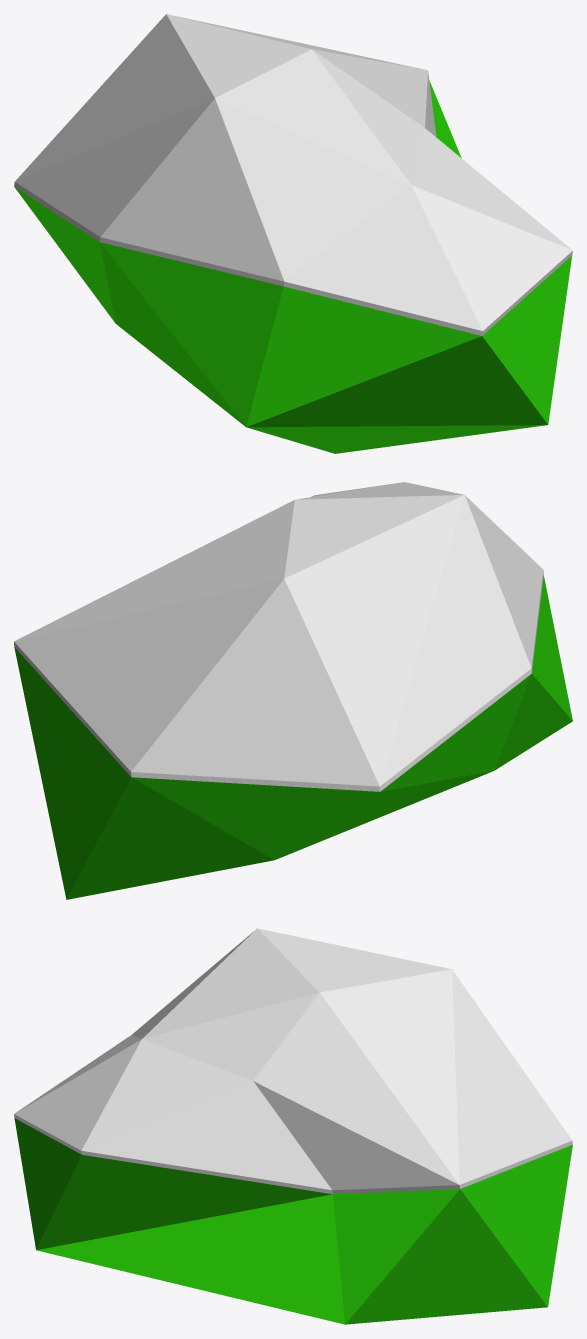
File: Bush#8_Snow.fbx
3 renders of one model, top to bottom at view 1: azimuth 30°, elevation 25°; view 2: azimuth 150°, elevation 25°; view 3: azimuth 270°, elevation 25°, orthographic. The views are drawn at different scales.
Parts seen in each view (by area): view 1: Bush#8_Snow; view 2: Bush#8_Snow; view 3: Bush#8_Snow.
Boxes of the visible parts, bbox=[...] form: Bush#8_Snow: bbox=[14, 14, 572, 453]; Bush#8_Snow: bbox=[14, 482, 572, 899]; Bush#8_Snow: bbox=[14, 928, 572, 1324].
Size of the model in its own units: 308 by 229 by 402.
